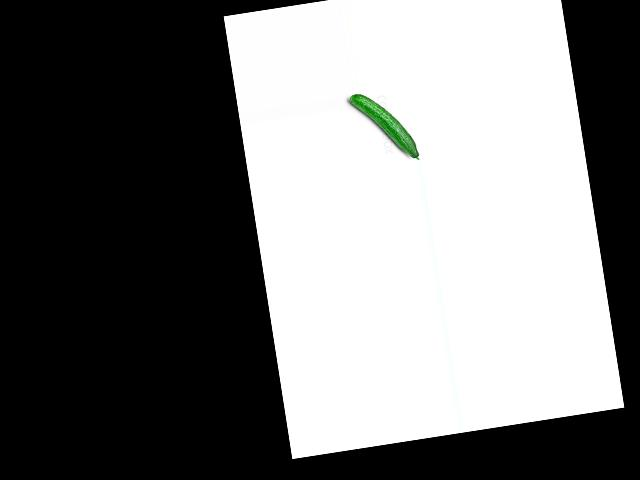cucumber: (348, 86, 419, 169)
